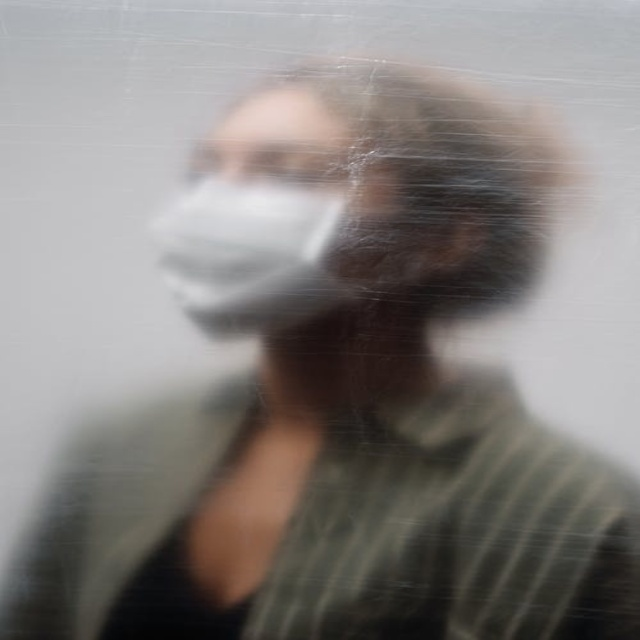Mascara: (142, 171, 352, 334)
Sin_gafas: (174, 146, 370, 196)
